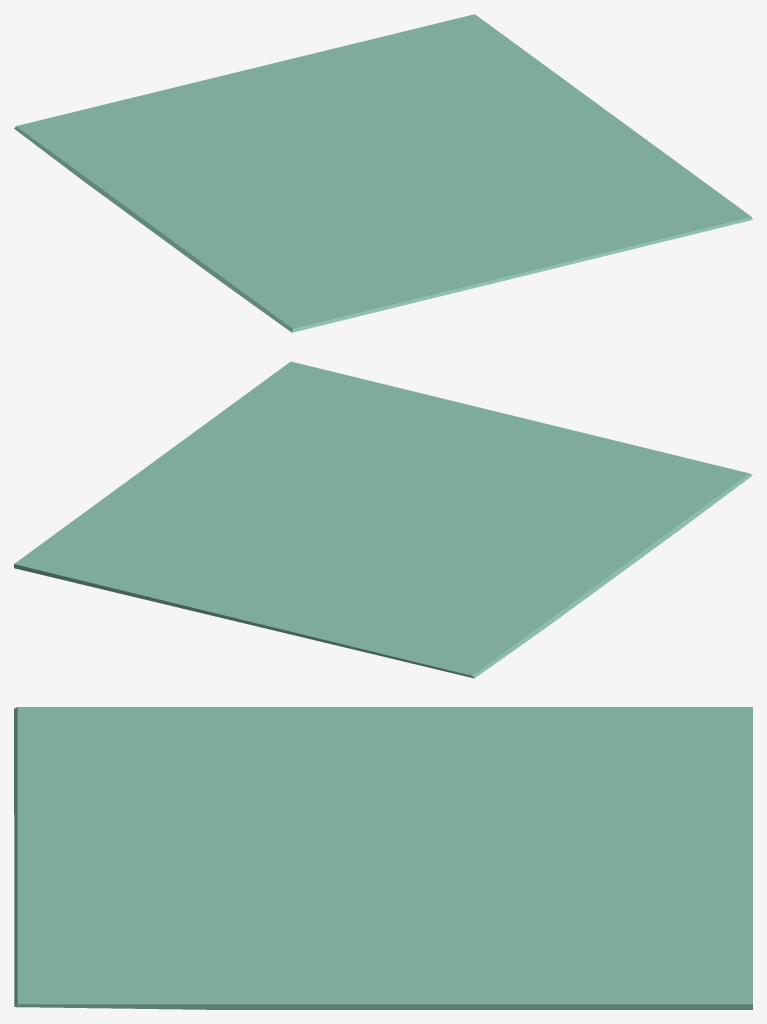
File: classroomceilingcolor.fbx
The picture shows the model from 3 angles, top to bottom: view 1: azimuth 30°, elevation 25°; view 2: azimuth 150°, elevation 25°; view 3: azimuth 270°, elevation 25°; orthographic projection. The views are drawn at different scales.
Parts seen in each view (by area): view 1: polySurface8; view 2: polySurface8; view 3: polySurface8.
Part boxes in pixels (bbox=[...]): polySurface8: bbox=[14, 14, 752, 332]; polySurface8: bbox=[14, 361, 752, 678]; polySurface8: bbox=[14, 707, 752, 1009].
Bounding box in the file's own units: 22.8 × 0.3382 × 23.8.
